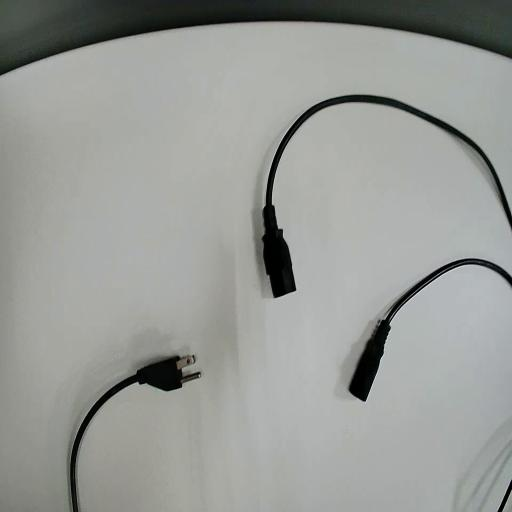wire: (262, 96, 511, 296), (349, 260, 511, 399), (70, 356, 198, 511)
